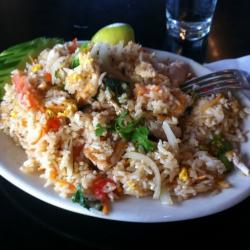rice: (10, 46, 224, 195)
